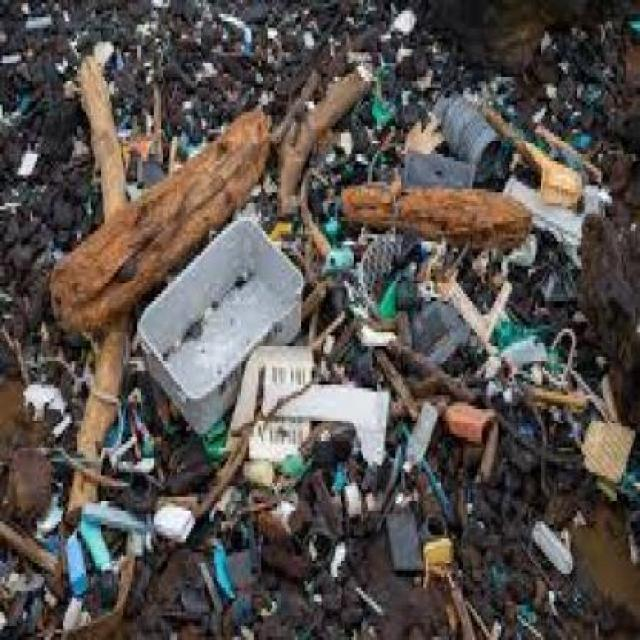garbage: (60, 52, 612, 594)
